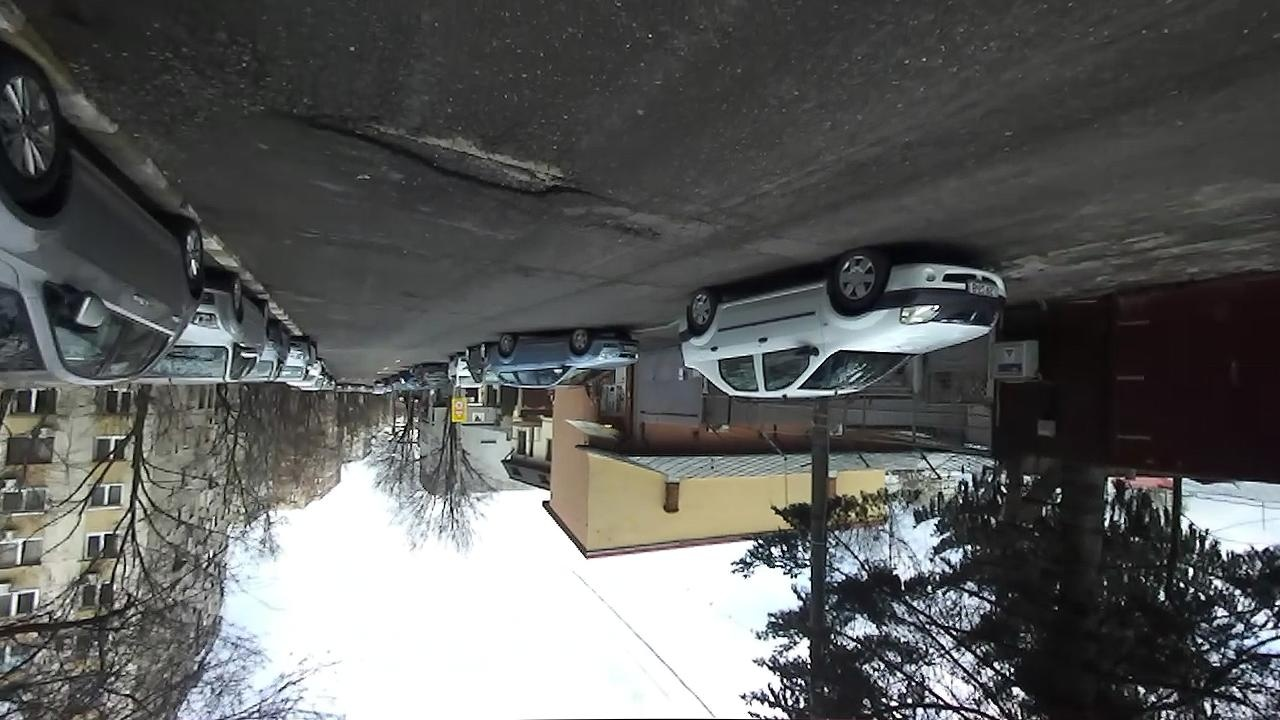pothole: (273, 96, 605, 201), (589, 214, 671, 245)
